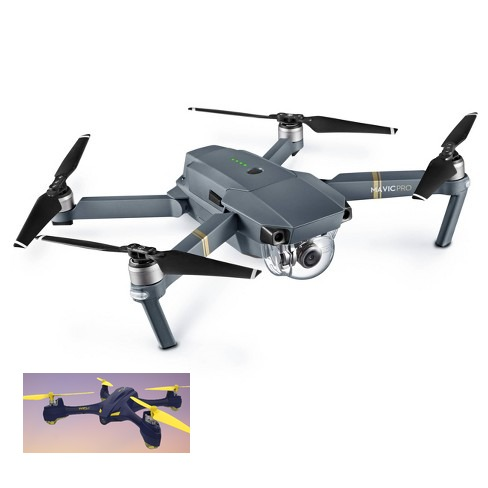drone: (13, 105, 478, 349), (23, 373, 190, 453)
